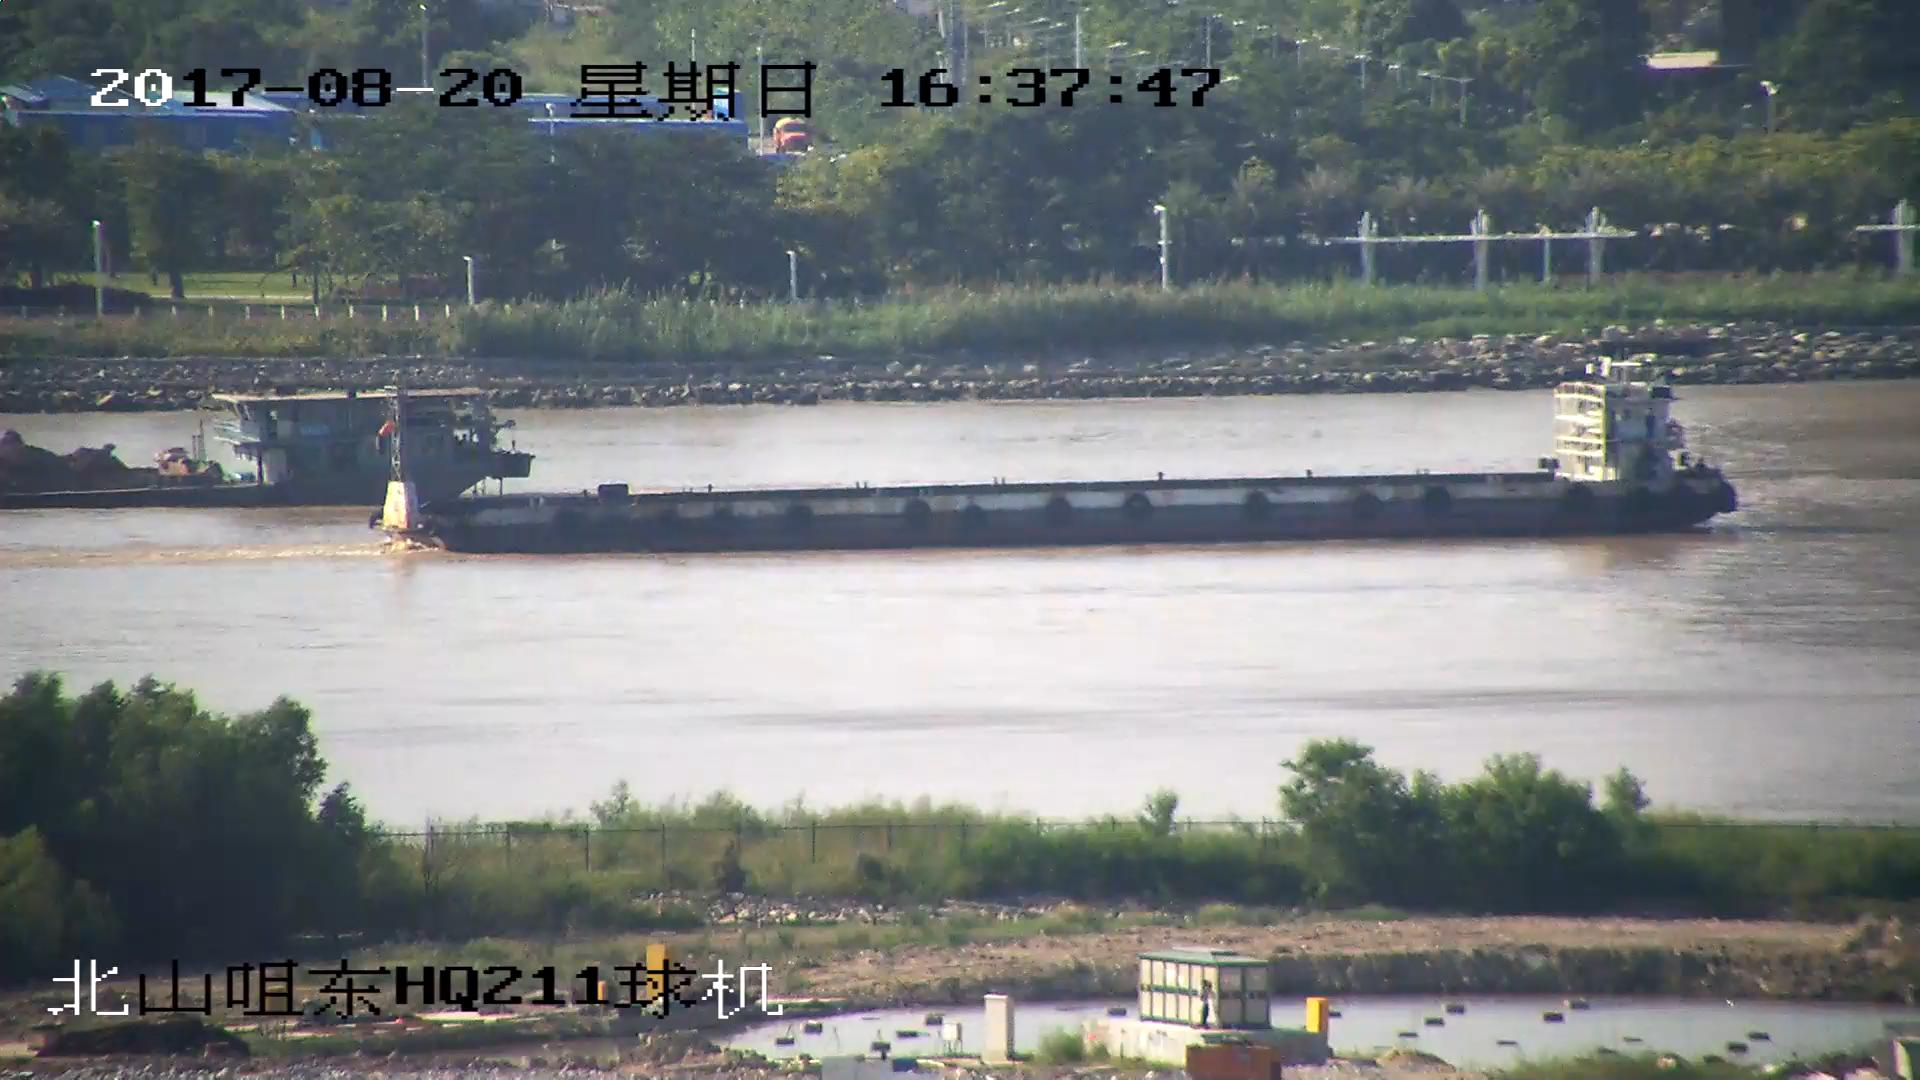general cargo ship: (382, 365, 1744, 554)
ore carrier: (1, 403, 527, 510)
